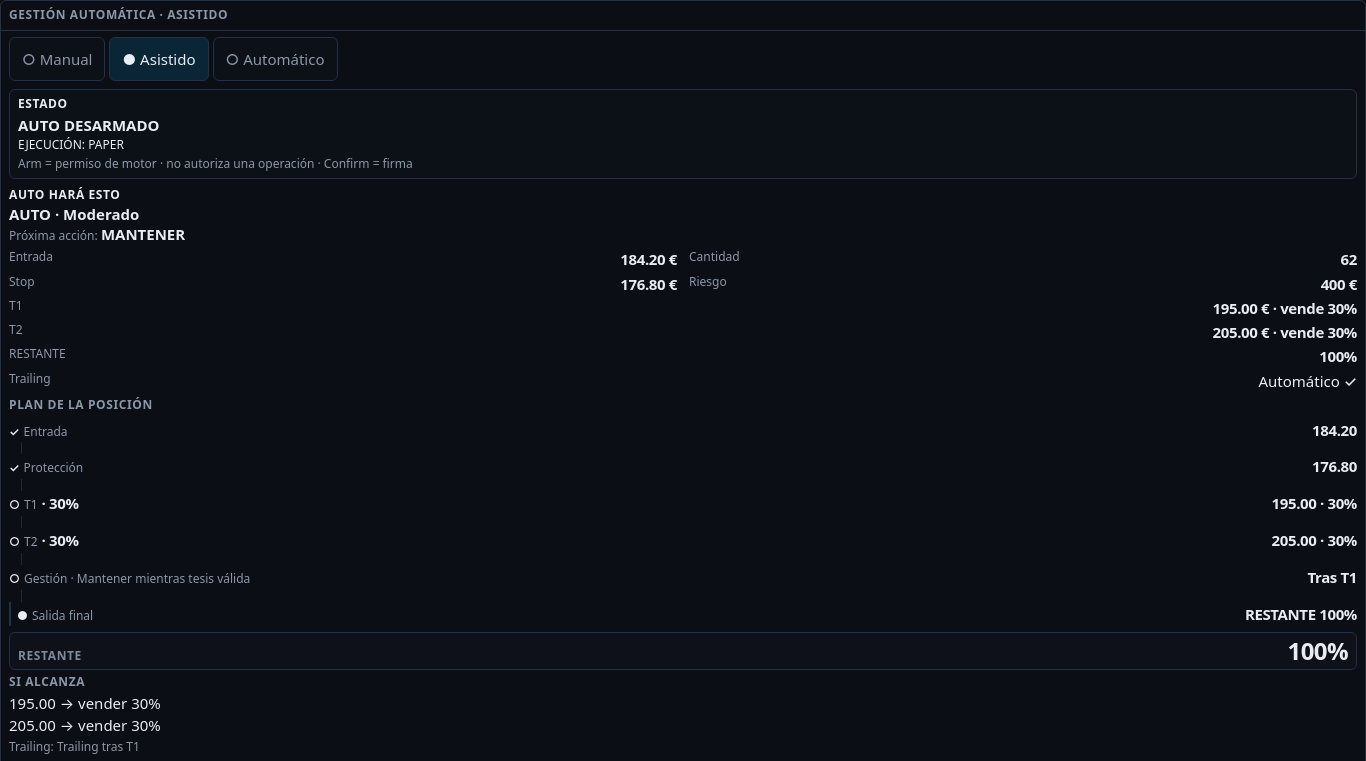
AutoDeskPanel V2.39 arm honesty › one click on Automático opens A3 form and does not arm or set auto
Click the button with test id "auto-desk-mode-auto" at (275, 59), box [212,37,338,81]
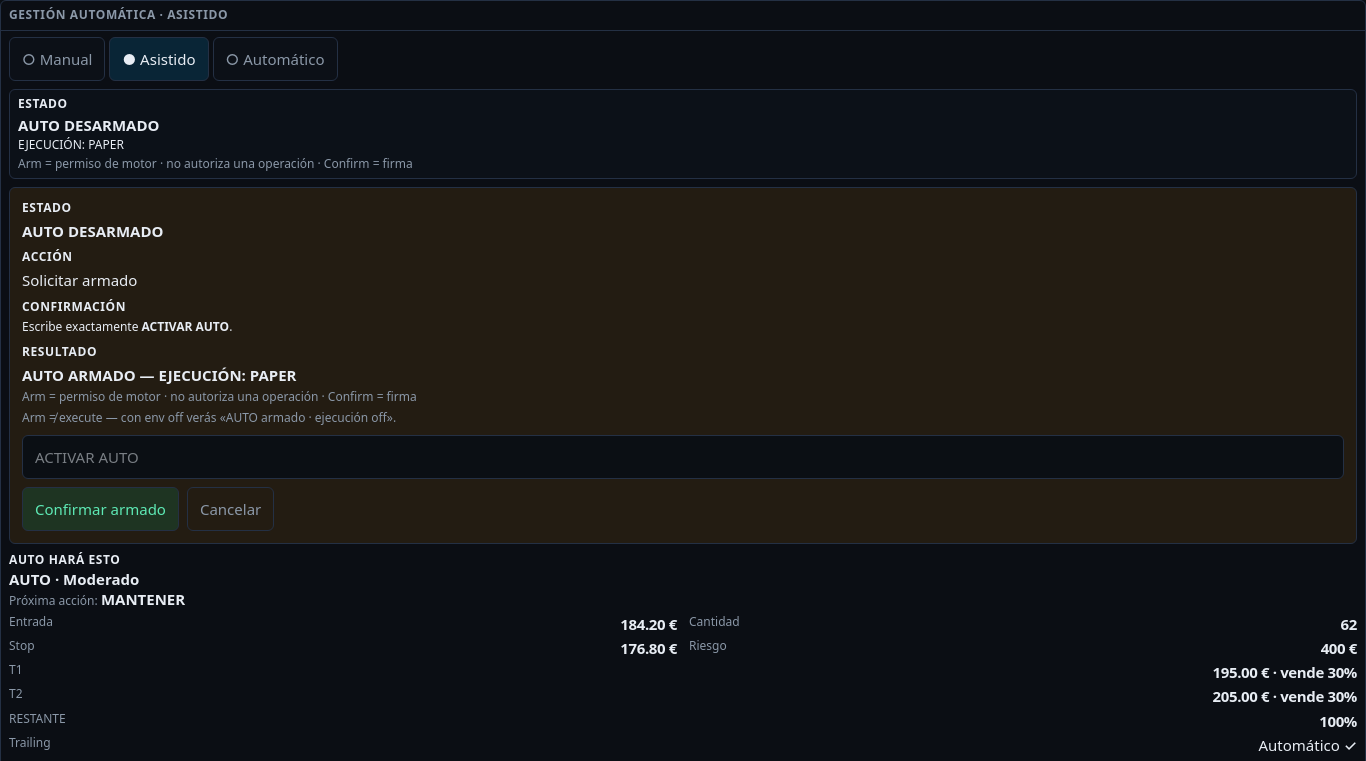
Check: the element with test id "demo-book-auto-arm-form" is shown, box [9,187,1357,544]
